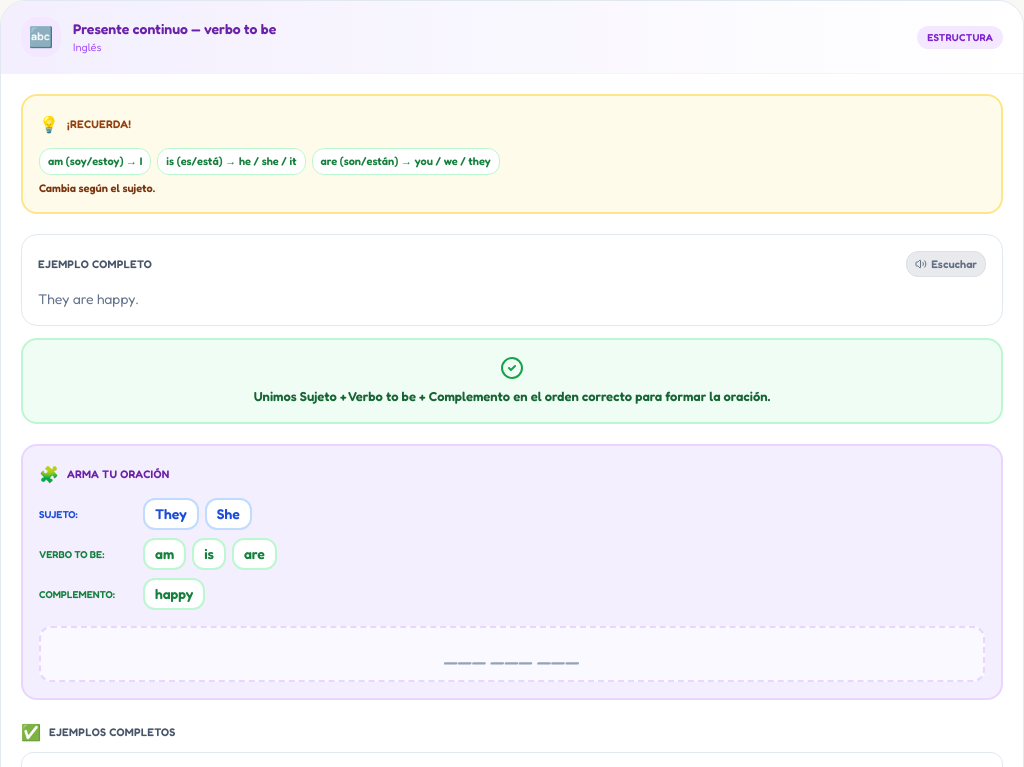
Test: ConstructorOracion — validación de concordancia real vía correspondeA (bug crítico) › valida como correcta una combinación con concordancia real ("they" + "are")
The width and height of the screenshot is (1024, 767).
What coordinates should you click on to do the following:
click the button "They"
I would click on:
 (171, 514)
Its box is [143,498,199,530].
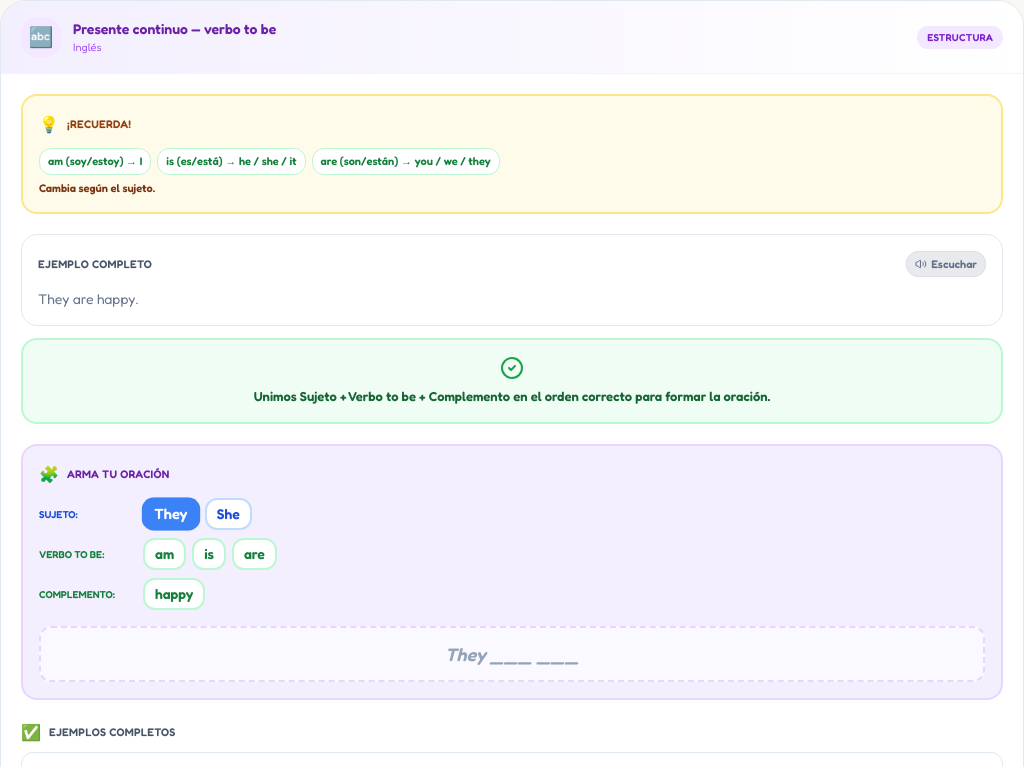
What coordinates should you click on to do the following:
click the button "are"
I would click on:
 (254, 554)
Its box is [232,538,277,570].
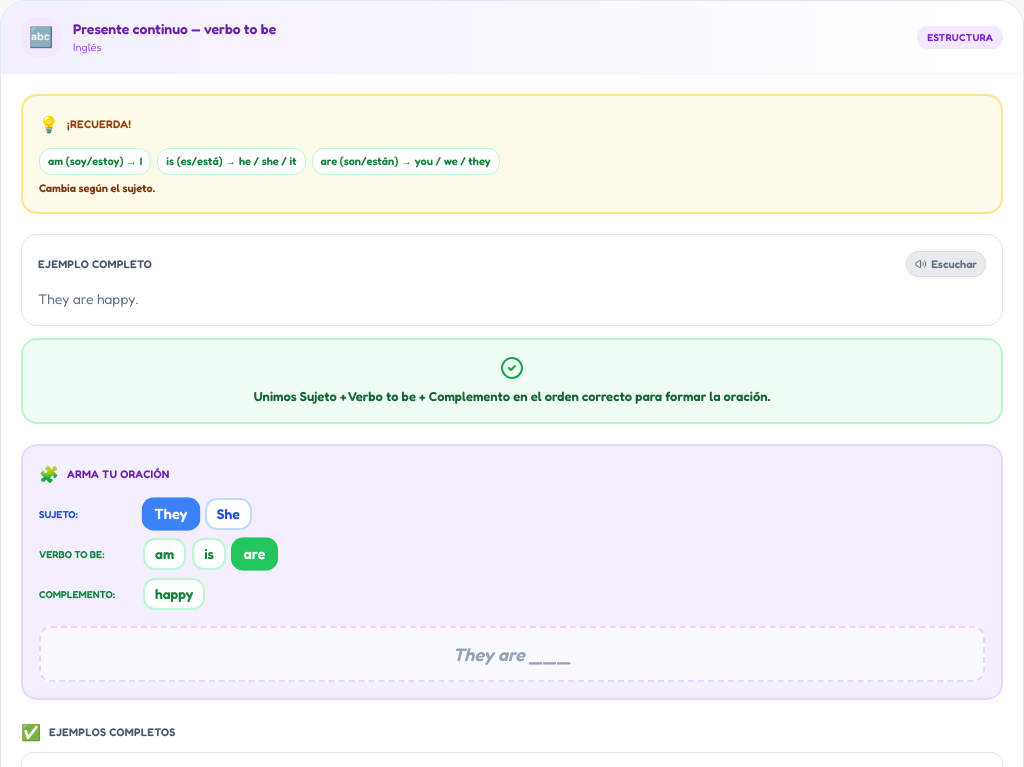
What coordinates should you click on to do the following:
click the button "happy"
I would click on:
 (174, 594)
Its box is [143,578,205,610].
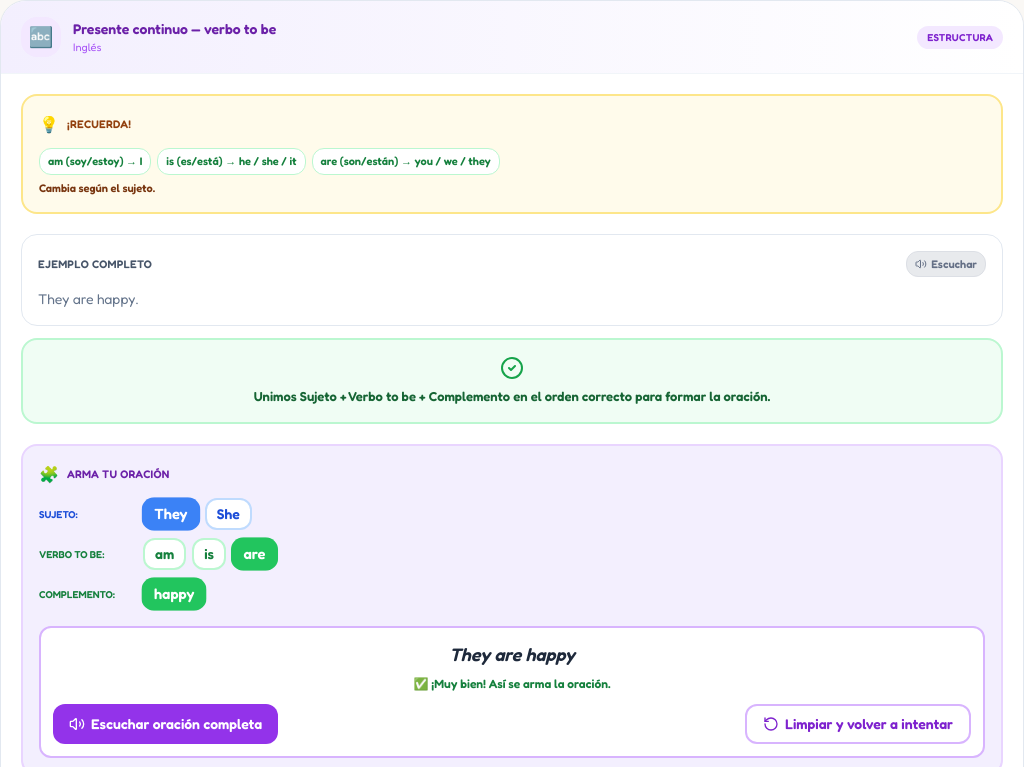
Now the text "✅ ¡Muy bien! Así se arma la oración." is shown, box [414,676,610,691]
